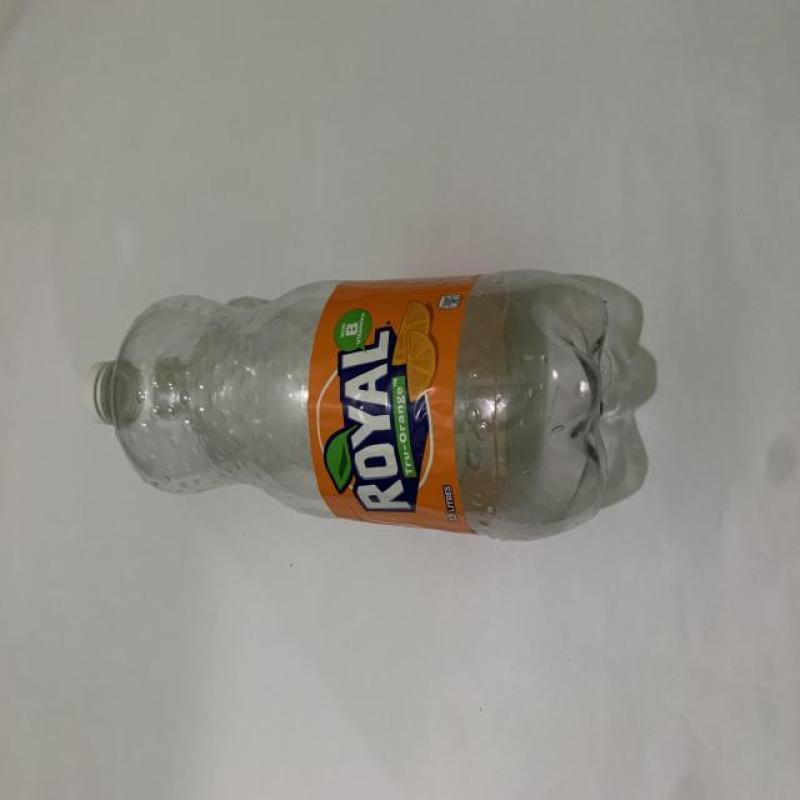botella: (81, 265, 612, 541)
